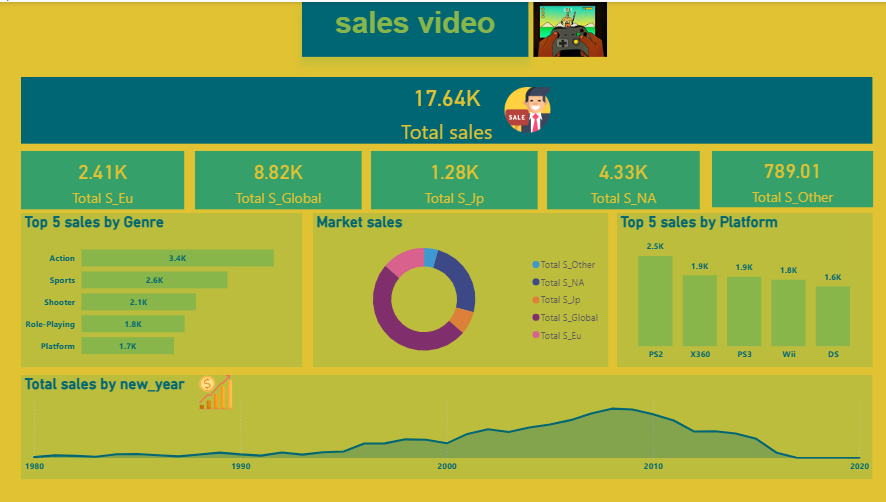

The page's visual inventory and layout, read from the dashboard file:
{"tool":"powerbi","page":{"name":"Page 1","canvas":[1280,720],"ordinal":0},"visuals":[{"type":"card","fields":{"Values":["video (2).Total sales"]},"box":[31.9,107.5,1226.2,95.7],"z":0},{"type":"lineChart","fields":{"Category":["video (2).new_year"],"Y":["video (2).Total sales"]},"box":[31.9,537.5,1226.2,149.5],"z":6,"group":"g1"},{"type":"image","box":[267.1,537.5,92.4,50.4],"z":12,"group":"g1"},{"type":"card","fields":{"Values":["video (2).Total S_Jp"]},"box":[535.9,215,240.2,84],"z":1000},{"type":"card","fields":{"Values":["video (2).Total S_Other"]},"box":[1026.4,215,231.8,80.6],"z":2000},{"type":"card","fields":{"Values":["video (2).Total S_NA"]},"box":[789.5,215,220.1,84],"z":3000},{"type":"card","fields":{"Values":["video (2).Total S_Global"]},"box":[282.2,215,240.2,84],"z":4000},{"type":"card","fields":{"Values":["video (2).Total S_Eu"]},"box":[31.9,215,235.2,84],"z":5000},{"type":"donutChart","title":"Market sales ","fields":{"Y":["video (2).Total S_Other","video (2).Total S_NA","video (2).Total S_Jp","video (2).Total S_Global","video (2).Total S_Eu"]},"box":[451.9,304,425,221.7],"z":6000},{"type":"barChart","title":"Top 5 sales by Genre","fields":{"Category":["video (2).Genre"],"Y":["video (2).Total sales"]},"box":[31.9,304,404.8,221.7],"z":7000},{"type":"clusteredColumnChart","title":"Top 5 sales by Platform","fields":{"Category":["video (2).Platform"],"Y":["video (2).Total sales"]},"box":[890.3,304,367.9,221.7],"z":8000},{"type":"textbox","box":[436.7,0,325.9,79],"z":9000},{"type":"image","box":[754.2,0,136.1,79],"z":10000},{"type":"group","id":"g1","title":"Group 1","box":[31.9,537.5,1226.2,149.5],"z":11000},{"type":"image","box":[720.6,122.6,82.3,65.5],"z":12000}]}

Visuals, with their boxes in screenshot pixels (x1, y1, x2, y2), scaled from the page's 1280x720 canvas onto the 886x502 screenshot:
card - video (2).Total sales: (x1=22, y1=75, x2=871, y2=142)
lineChart - video (2).new_year x video (2).Total sales: (x1=22, y1=375, x2=871, y2=479)
image: (x1=185, y1=375, x2=249, y2=410)
card - video (2).Total S_Jp: (x1=371, y1=150, x2=537, y2=208)
card - video (2).Total S_Other: (x1=710, y1=150, x2=871, y2=206)
card - video (2).Total S_NA: (x1=546, y1=150, x2=699, y2=208)
card - video (2).Total S_Global: (x1=195, y1=150, x2=362, y2=208)
card - video (2).Total S_Eu: (x1=22, y1=150, x2=185, y2=208)
"Market sales " donutChart: (x1=313, y1=212, x2=607, y2=367)
"Top 5 sales by Genre" barChart: (x1=22, y1=212, x2=302, y2=367)
"Top 5 sales by Platform" clusteredColumnChart: (x1=616, y1=212, x2=871, y2=367)
textbox: (x1=302, y1=0, x2=528, y2=55)
image: (x1=522, y1=0, x2=616, y2=55)
"Group 1" group: (x1=22, y1=375, x2=871, y2=479)
image: (x1=499, y1=85, x2=556, y2=131)
